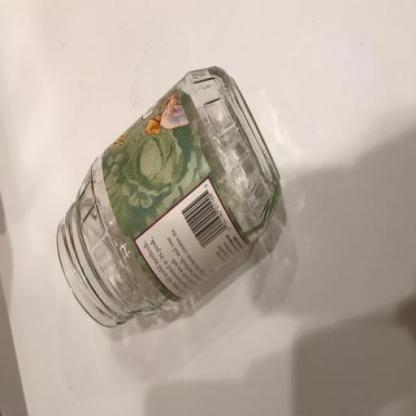trash: (55, 64, 281, 328)
